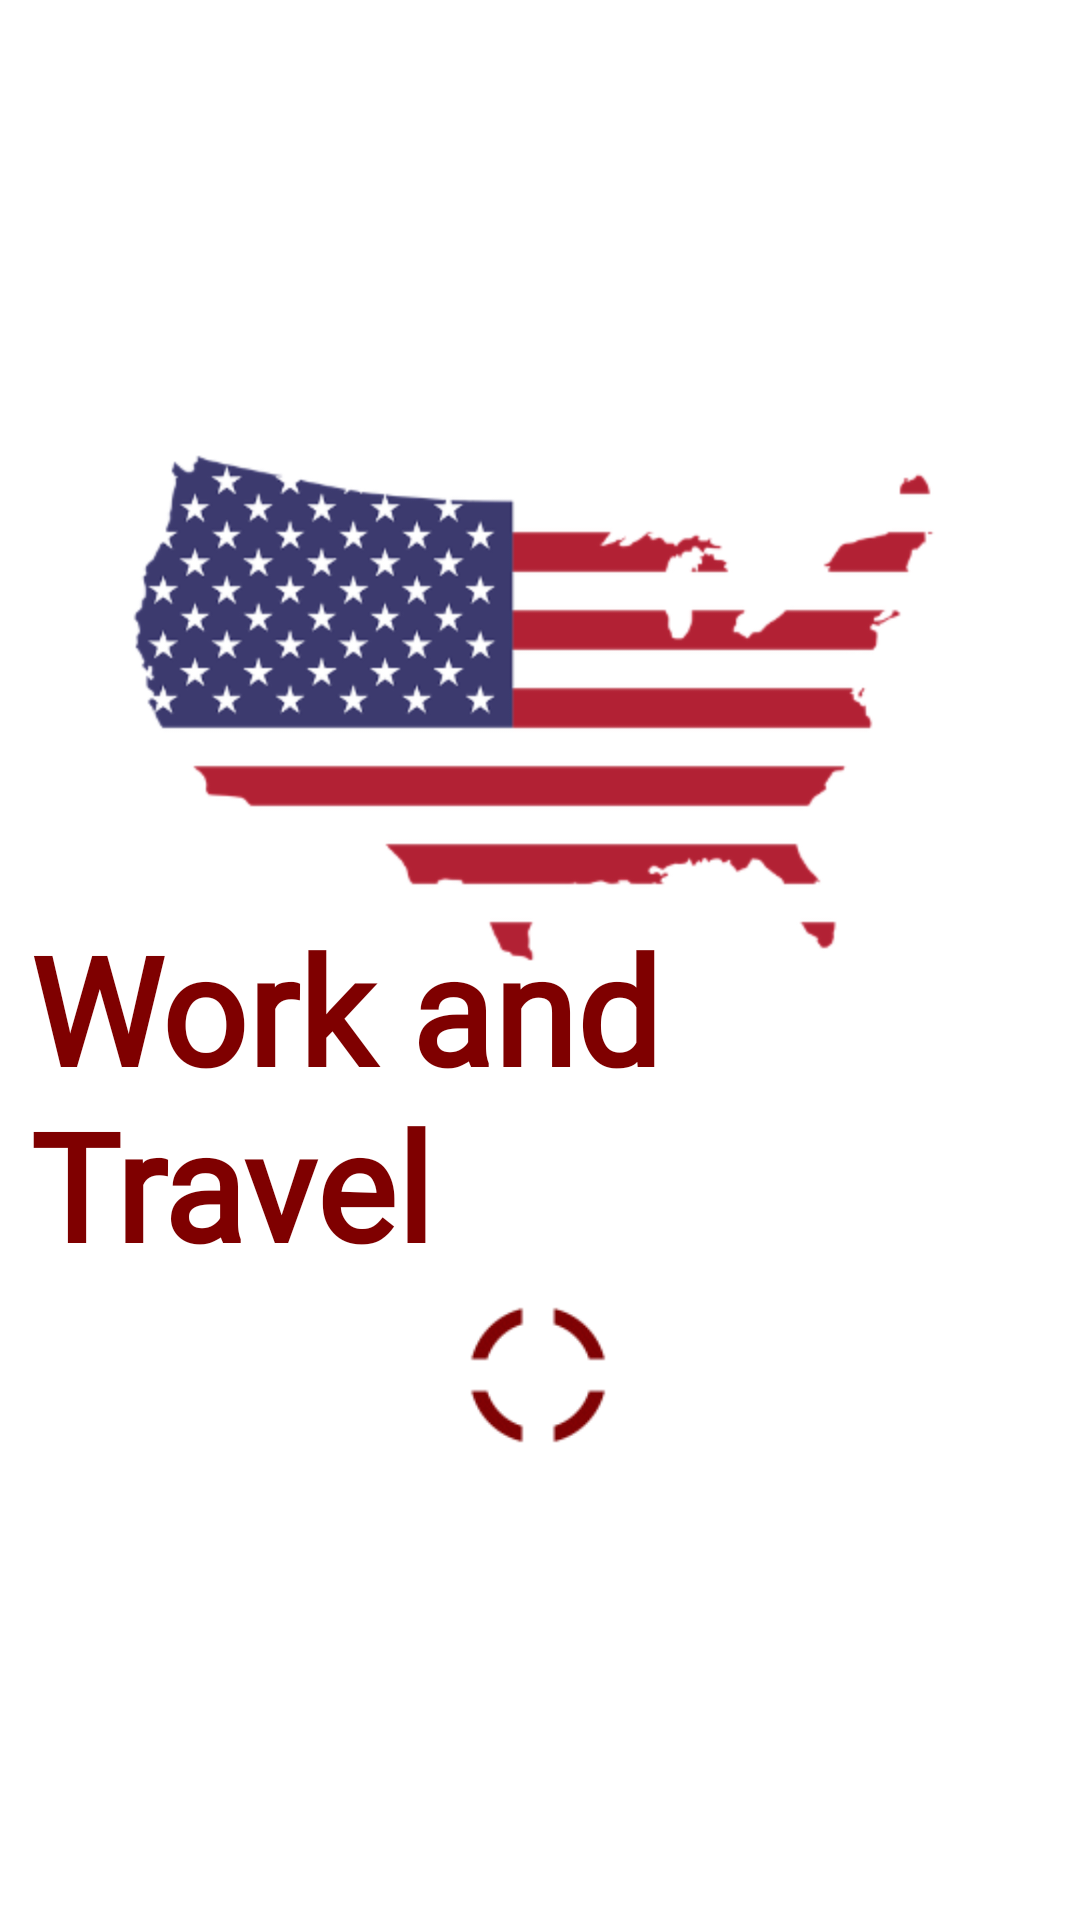

Icons on this 1080 × 1920 Android screen, each with the point to tap as point (x, y):
load: point (538, 1375)
